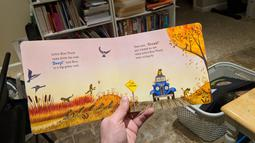text block: (45, 49, 82, 71), (130, 40, 165, 61)
